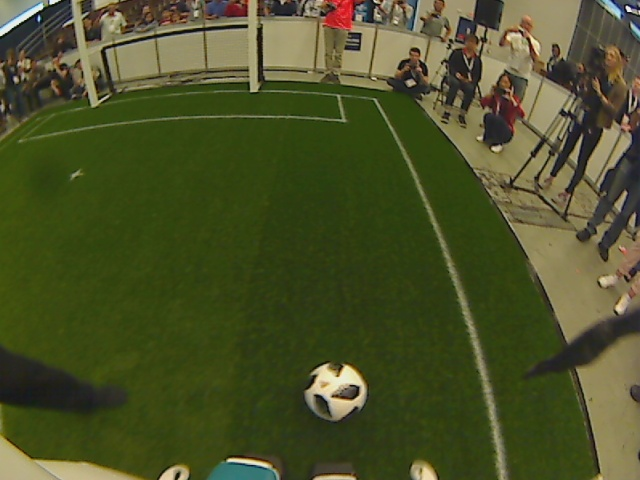ball: (299, 359, 370, 421)
